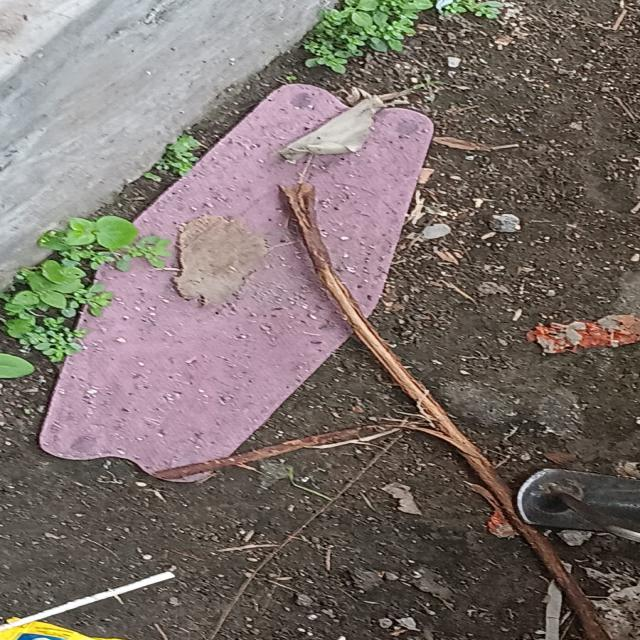masker: (40, 85, 349, 473), (314, 108, 432, 314)
